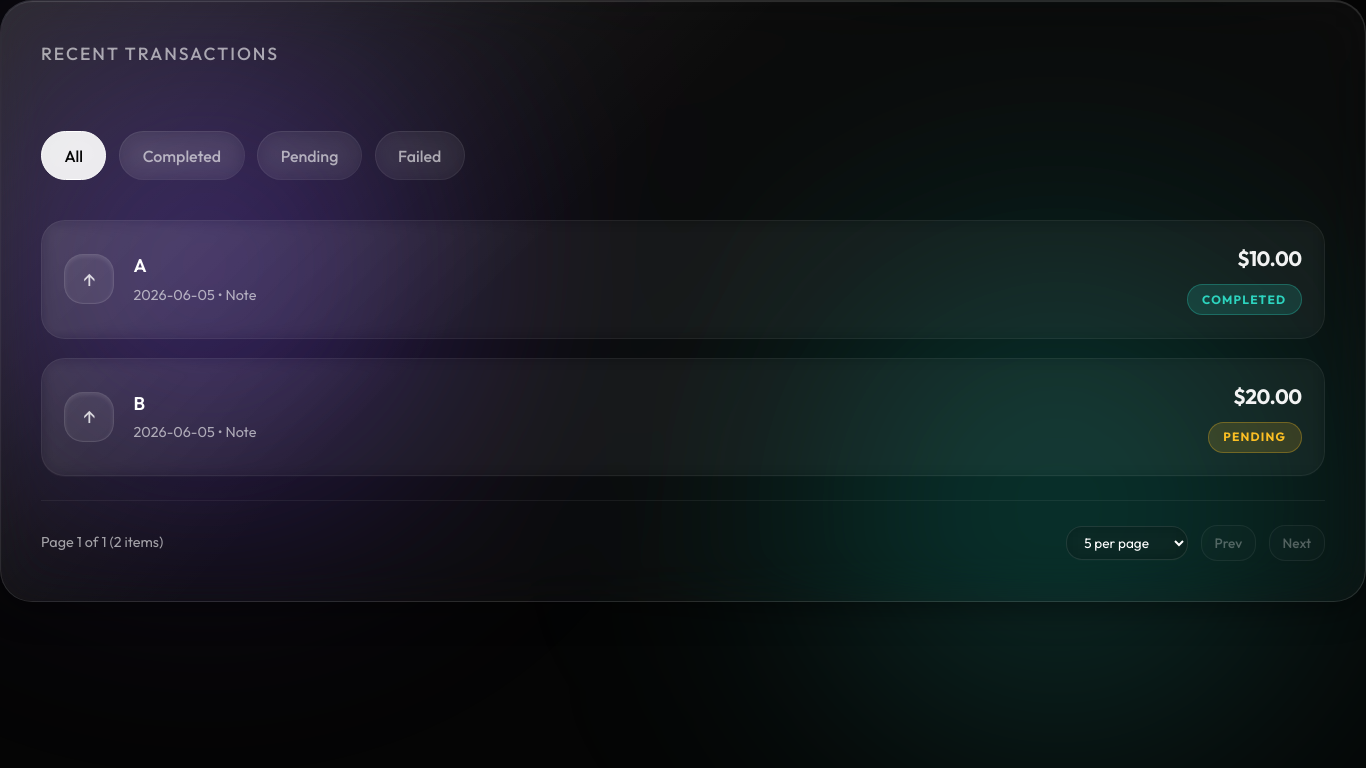
Test: TransactionList filter actions › FILTER-05: shows empty state when selected filter has no items
This screenshot has width=1366, height=768.
Click the button "Failed" at (420, 156), box [375, 131, 465, 180]
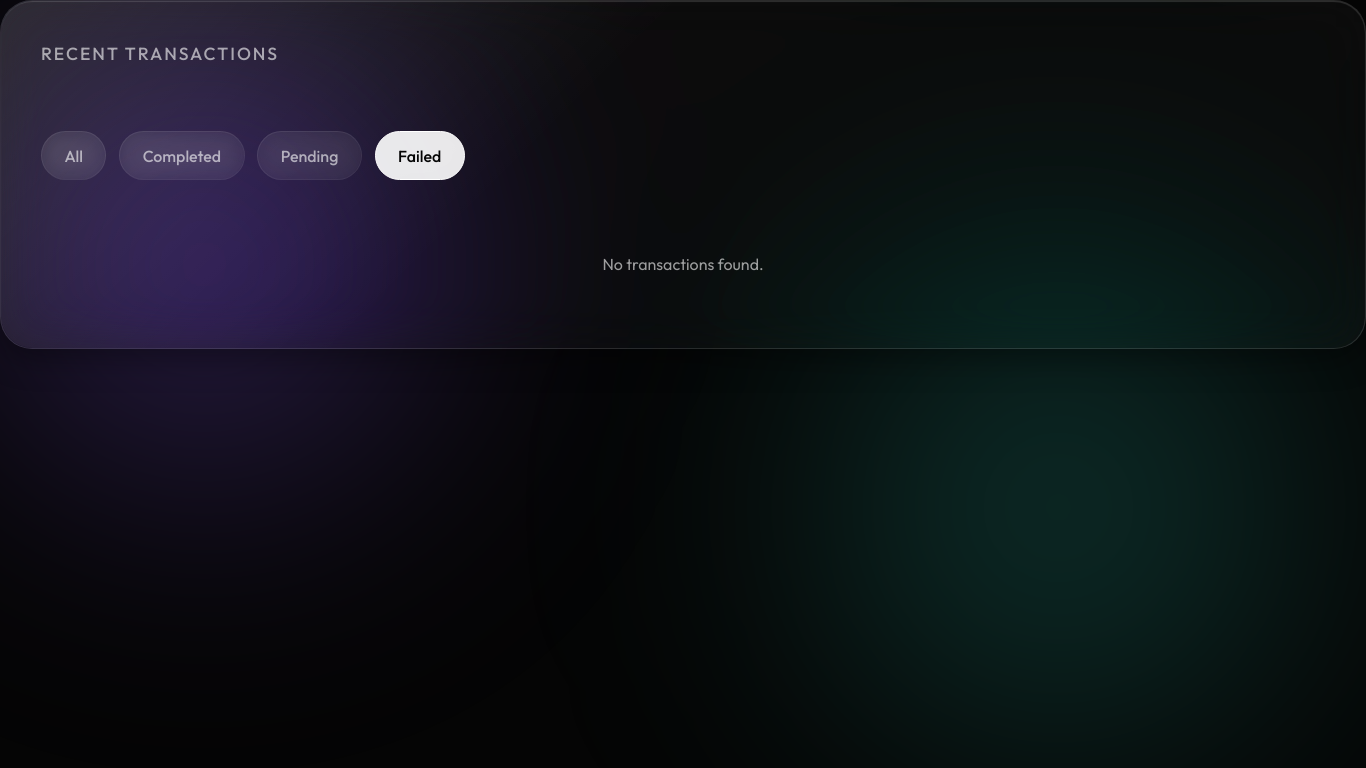
Check: the text "No transactions found." is shown, box [602, 254, 764, 274]
